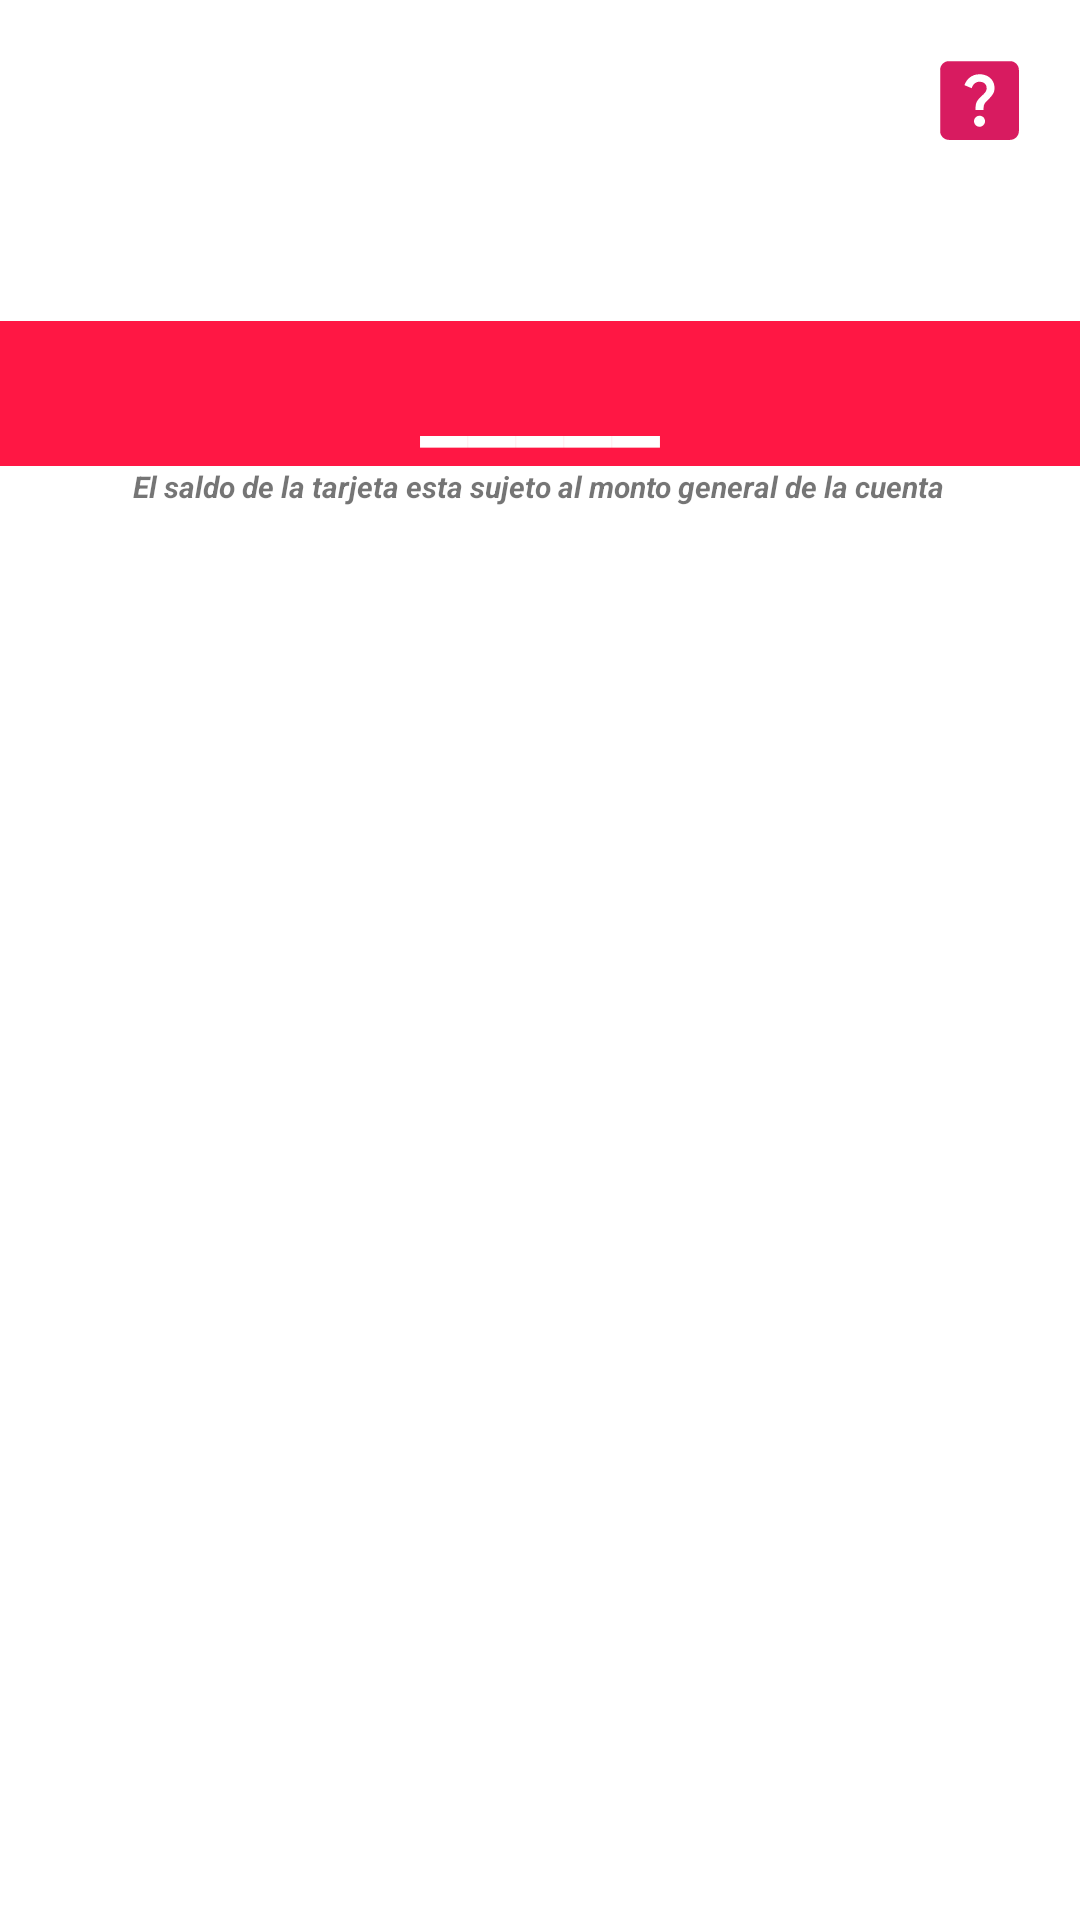

Locate icon controls on the screen. Image size 1080 × 1920, boxes as (x1, y1, x2, y2).
help center: (940, 61, 1019, 140)
